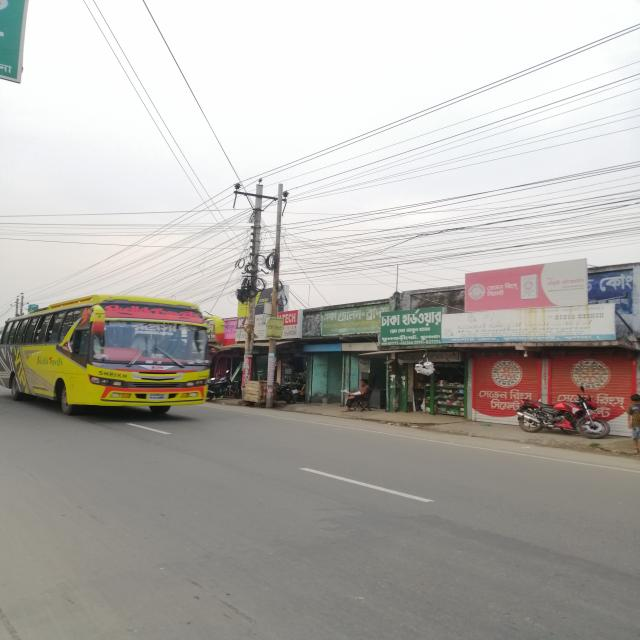Bus: (1, 293, 225, 423)
Motorbike: (508, 384, 617, 446)
